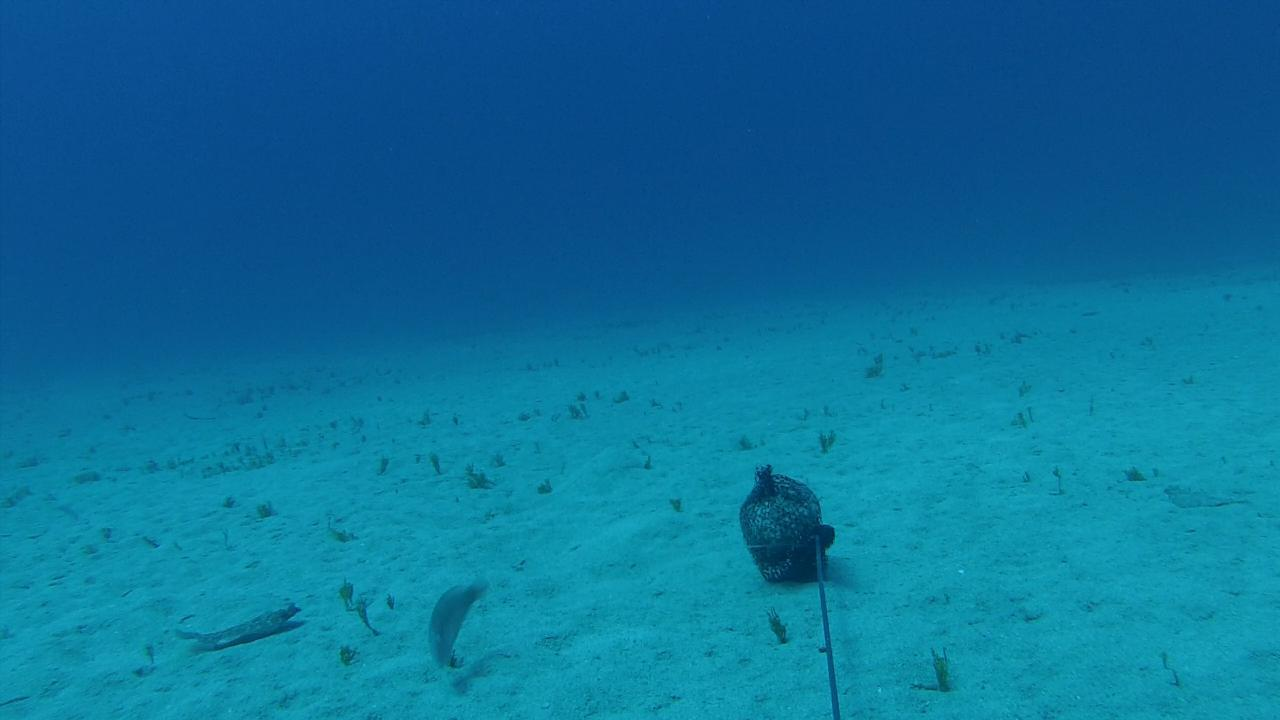bothus: (173, 599, 303, 644), (1160, 479, 1254, 507)
raor: (426, 574, 490, 664)
